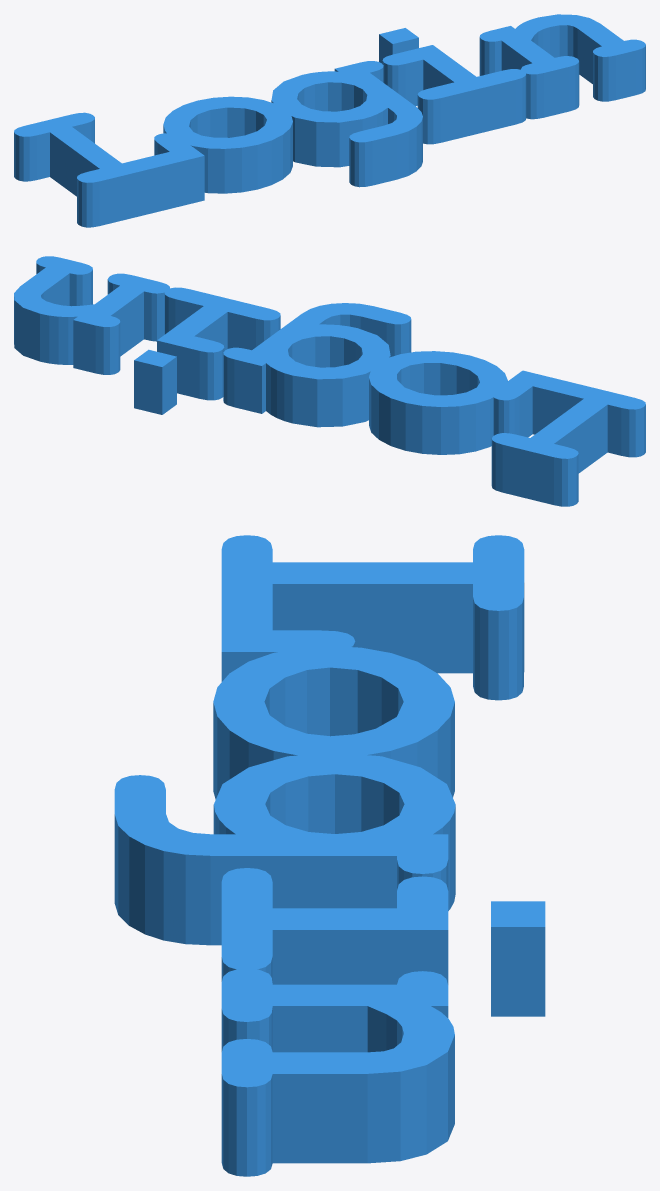
File: Login.glb
3 views of the same model, one above another, from view 1: azimuth 30°, elevation 25°; view 2: azimuth 150°, elevation 25°; view 3: azimuth 270°, elevation 25° (orthographic). The views are drawn at different scales.
Visible parts, largest first — view 1: Login; view 2: Login; view 3: Login.
Part boxes in pixels (<box>): Login: <box>14,14,645,227</box>; Login: <box>14,256,645,506</box>; Login: <box>114,535,545,1176</box>.
Size of the model in its own units: 1.32 by 0.1 by 0.436.
